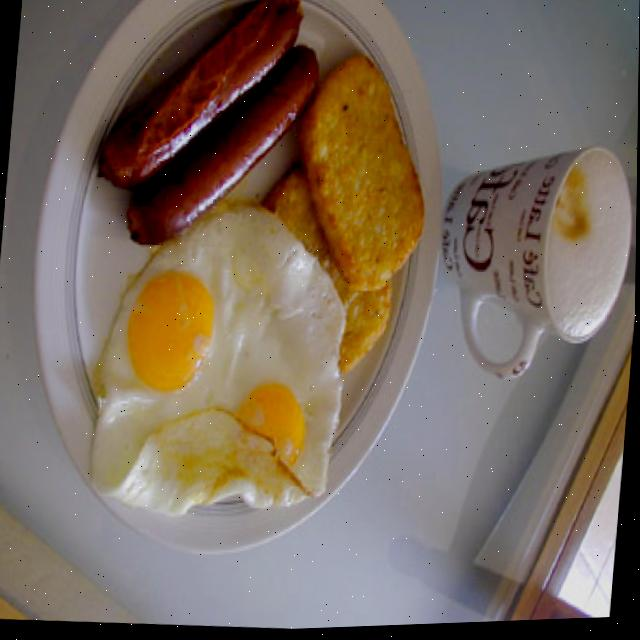鸡蛋料理: (77, 233, 355, 532)
